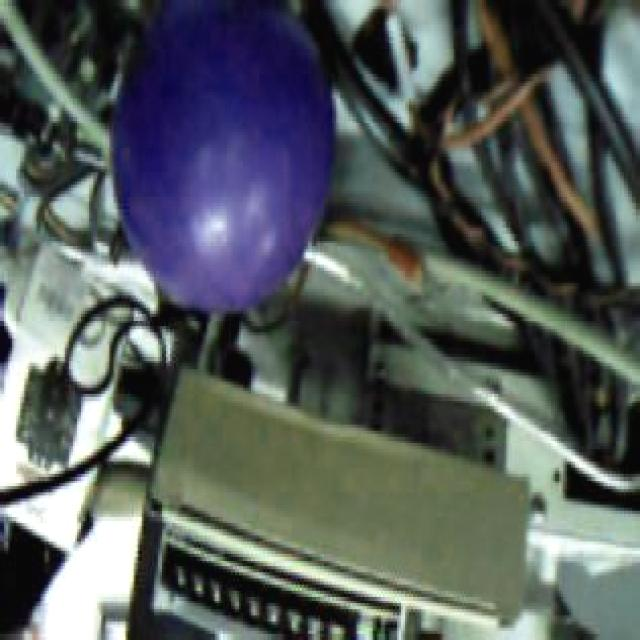BallPurple: (109, 0, 334, 314)
